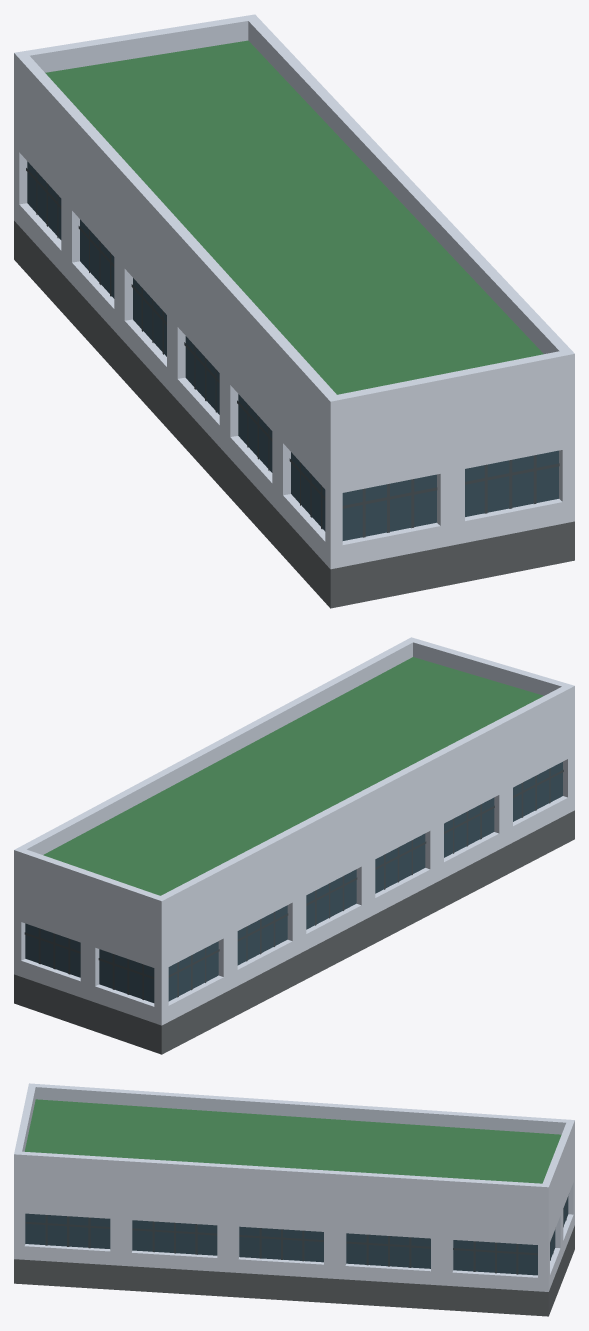
3 views of the same model, one above another, from view 1: azimuth 30°, elevation 25°; view 2: azimuth 150°, elevation 25°; view 3: azimuth 270°, elevation 25° (orthographic). The views are drawn at different scales.
Parts seen in each view (by area): view 1: shed5__roof, shed5__wall-plaster, shed5__trim-concrete, shed5__base-stone, shed5__glass, shed5__frame; view 2: shed5__wall-plaster, shed5__roof, shed5__trim-concrete, shed5__base-stone, shed5__glass, shed5__frame; view 3: shed5__wall-plaster, shed5__roof, shed5__base-stone, shed5__trim-concrete, shed5__glass, shed5__frame.
Boxes of the visible parts, x1=… form: shed5__roof: x1=45, y1=40, x2=543, y2=394; shed5__wall-plaster: x1=14, y1=53, x2=574, y2=569; shed5__trim-concrete: x1=14, y1=14, x2=574, y2=544; shed5__base-stone: x1=14, y1=221, x2=574, y2=608; shed5__glass: x1=27, y1=161, x2=558, y2=540; shed5__frame: x1=26, y1=168, x2=559, y2=537; shed5__wall-plaster: x1=14, y1=686, x2=574, y2=1025; shed5__roof: x1=43, y1=657, x2=543, y2=895; shed5__trim-concrete: x1=14, y1=637, x2=574, y2=1006; shed5__base-stone: x1=14, y1=810, x2=574, y2=1054; shed5__glass: x1=25, y1=762, x2=562, y2=1002; shed5__frame: x1=24, y1=768, x2=563, y2=999; shed5__wall-plaster: x1=14, y1=1121, x2=574, y2=1291; shed5__roof: x1=24, y1=1099, x2=561, y2=1183; shed5__base-stone: x1=14, y1=1225, x2=574, y2=1316; shed5__trim-concrete: x1=14, y1=1083, x2=574, y2=1277; shed5__glass: x1=25, y1=1196, x2=568, y2=1275; shed5__frame: x1=25, y1=1197, x2=567, y2=1274.
Size of the model in its own units: 8.18 by 4.75 by 18.68.
